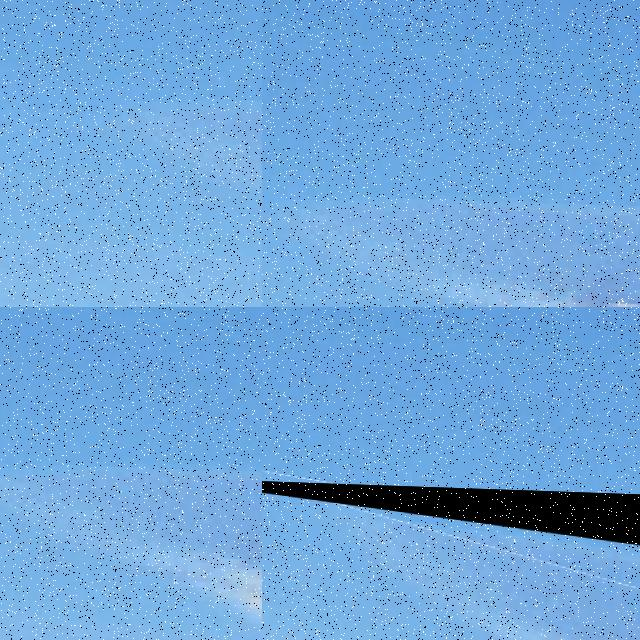drone: (262, 477, 640, 640)
